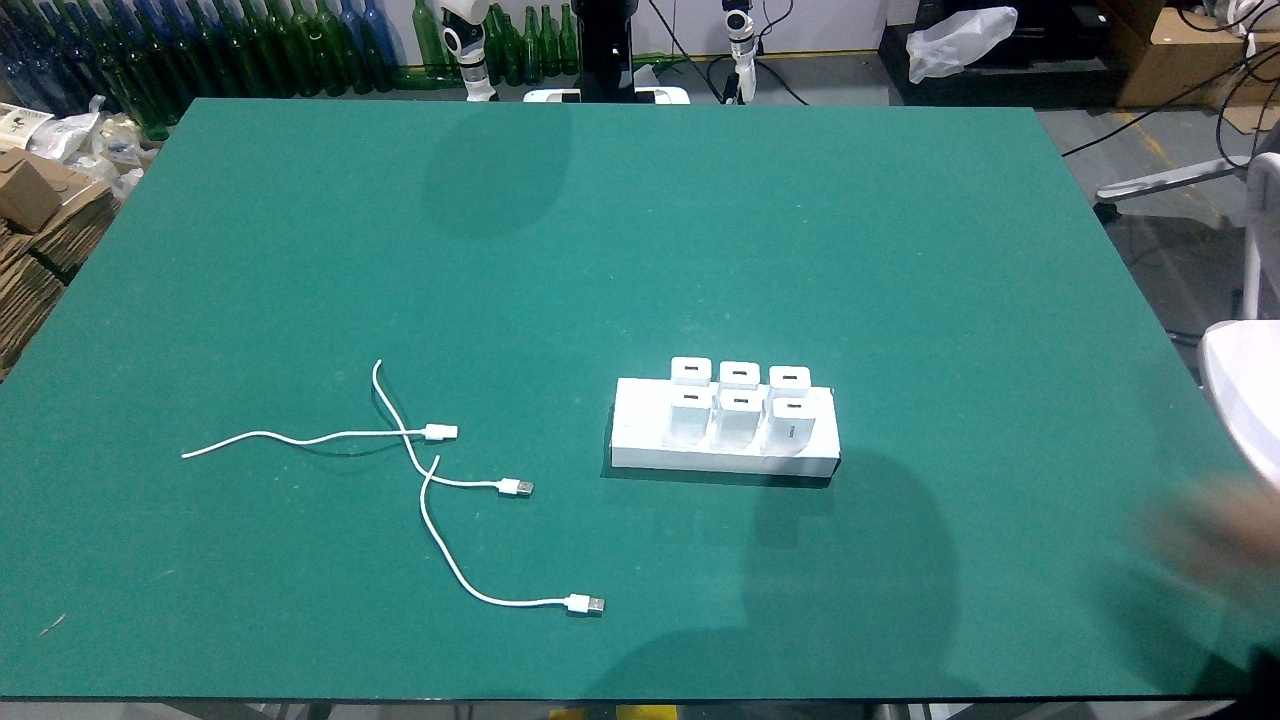usb_a_plug: (550, 591, 605, 615), (482, 475, 534, 497), (408, 423, 459, 440)
